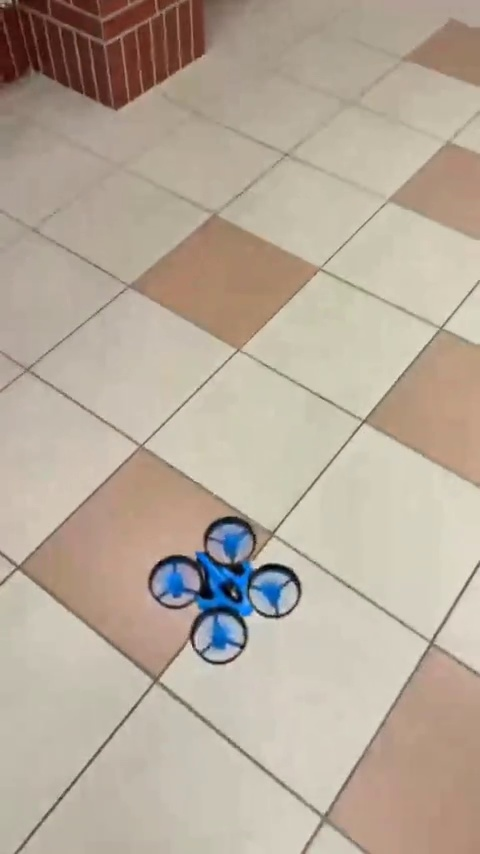drone: (143, 518, 300, 661)
